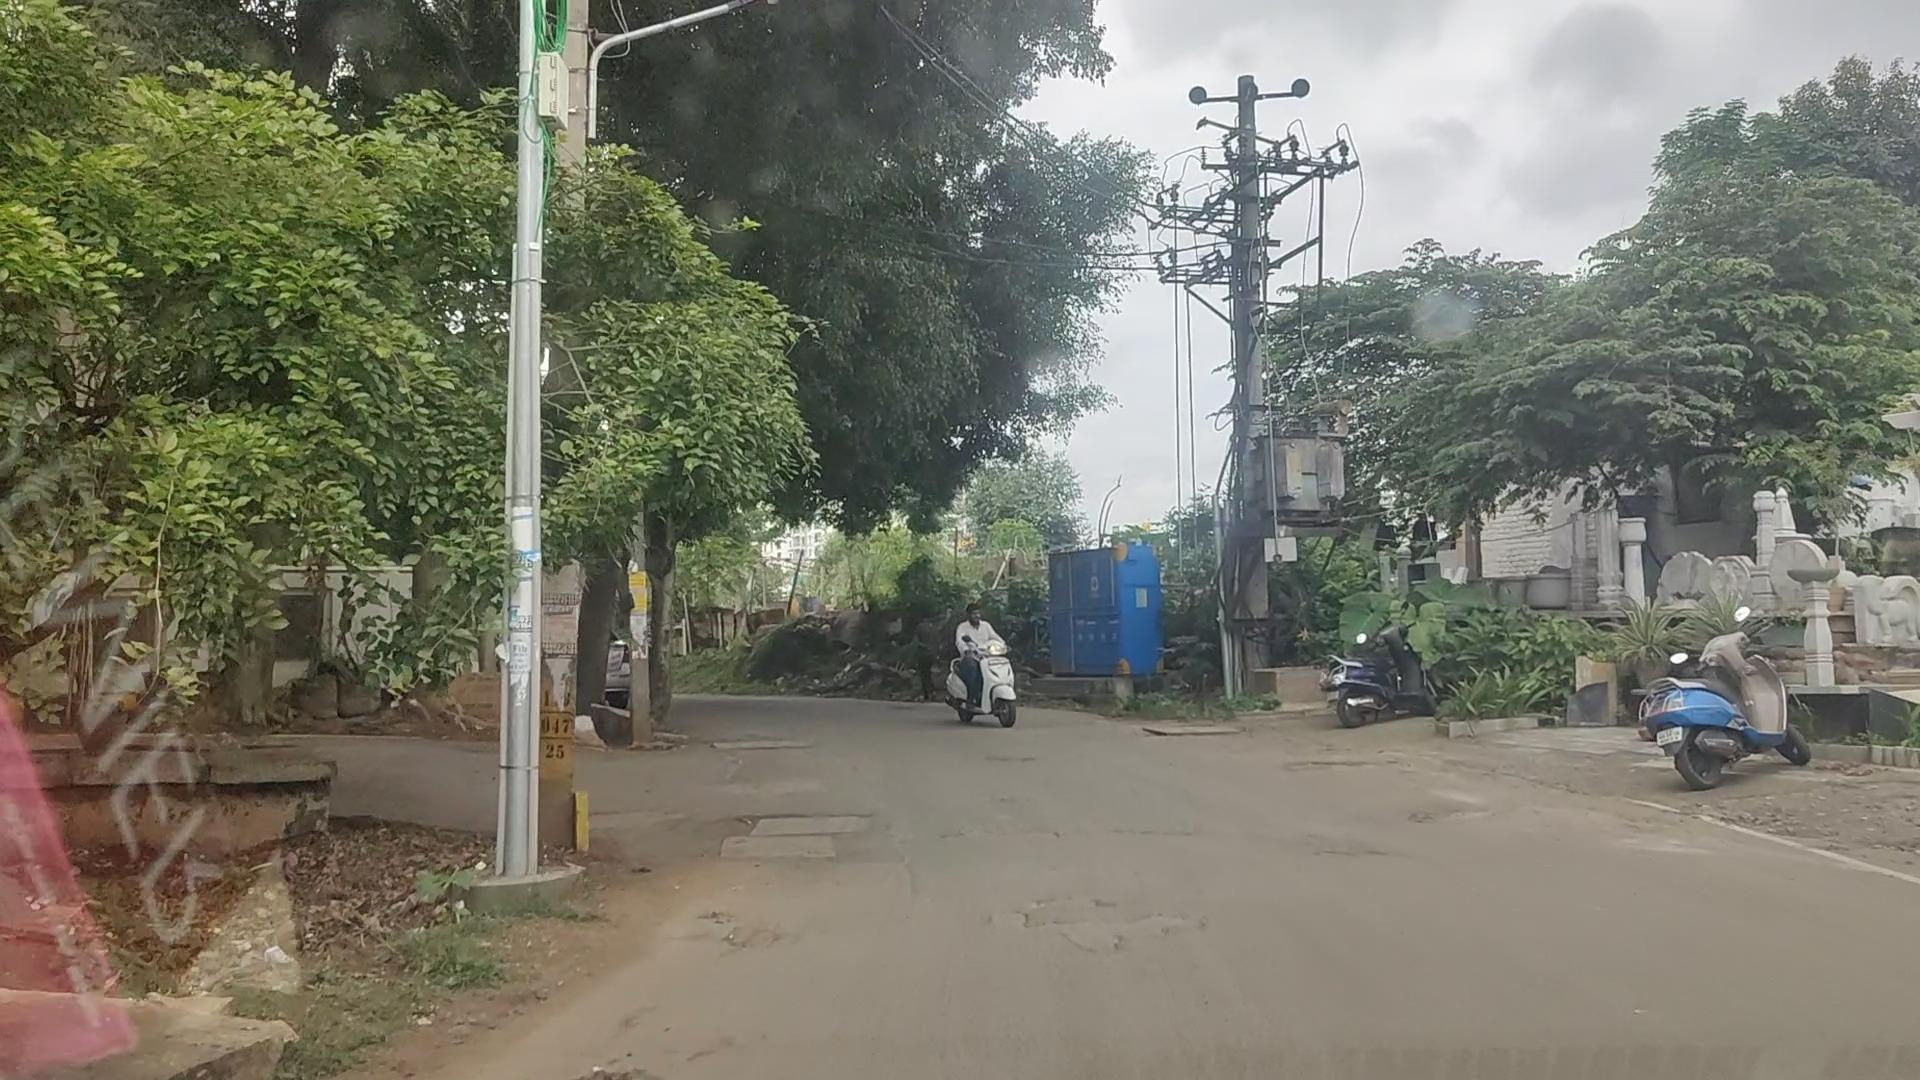LMV: (952, 603, 1030, 725)
RoadDamages: (708, 802, 869, 869)
